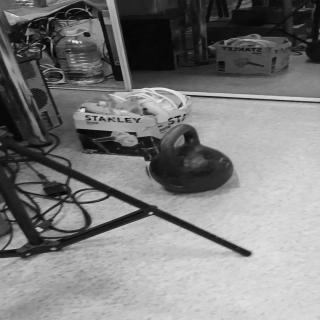kettlebell: (141, 123, 238, 196)
